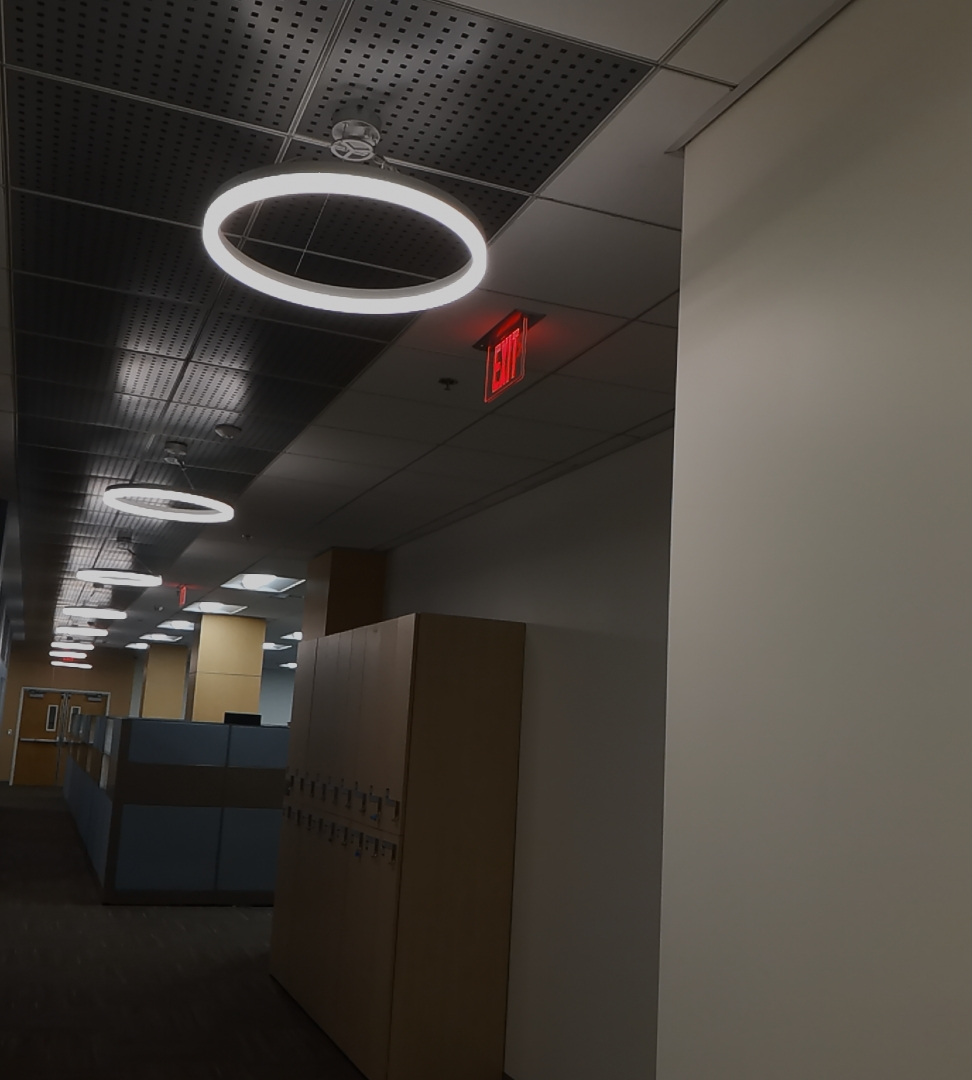emergency_exit: (478, 308, 529, 404)
